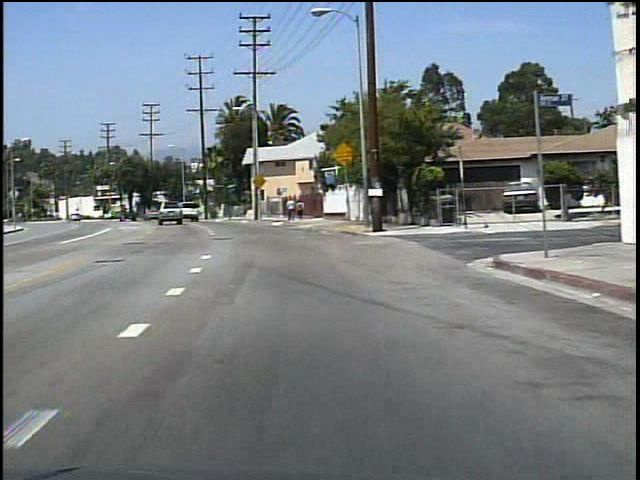person: (285, 196, 296, 222), (295, 198, 306, 222)
